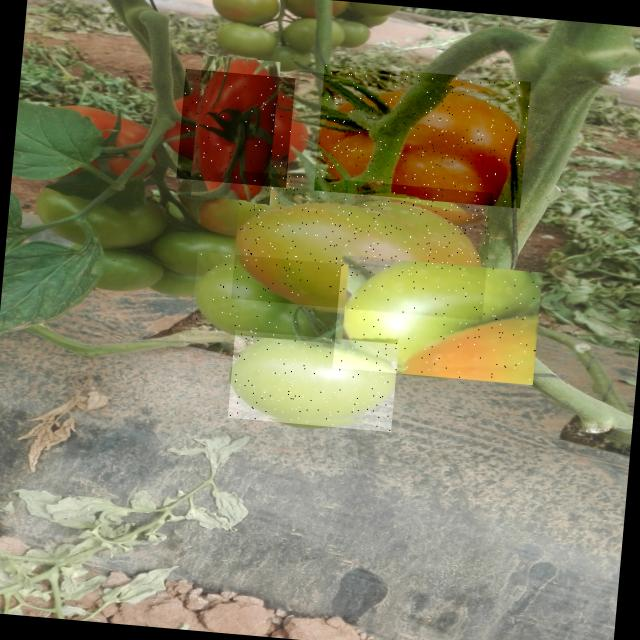Ripe Tomato: (314, 63, 530, 208), (176, 68, 295, 188)
Unripe Tomato: (230, 171, 492, 320), (332, 254, 542, 384), (227, 329, 398, 432), (190, 252, 348, 344)
